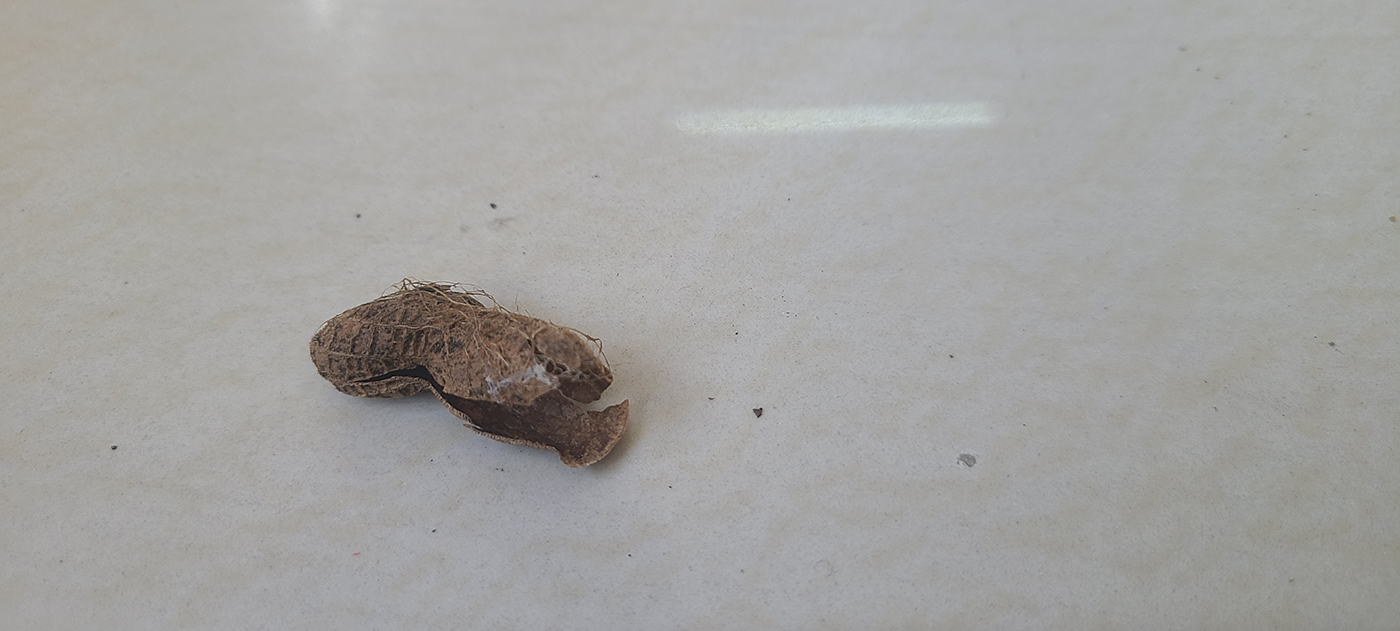l: (312, 285, 633, 469)
